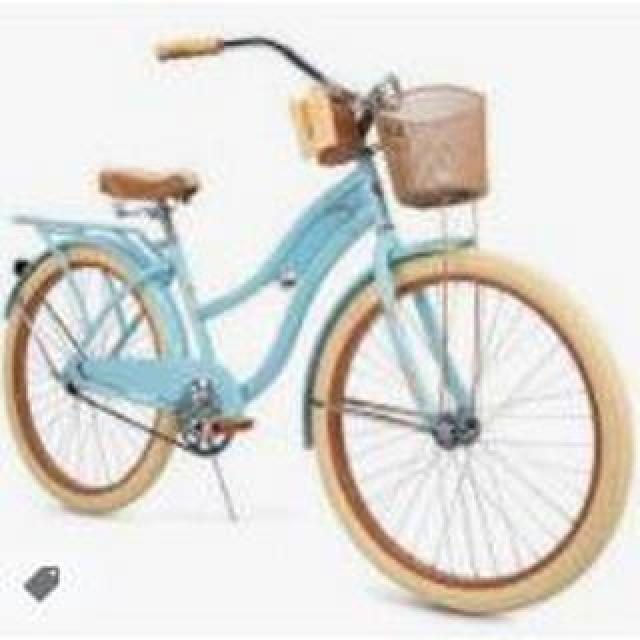Person: (0, 36, 632, 620)
